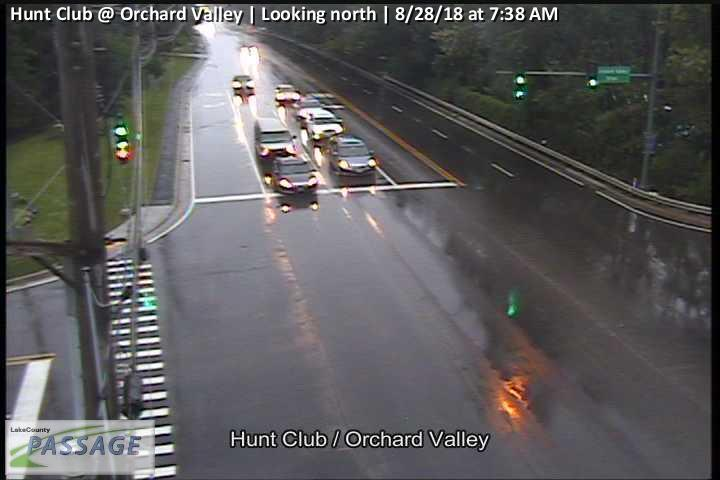SUV: (255, 117, 297, 158), (306, 112, 344, 141)
Sedan: (329, 136, 376, 178), (273, 157, 318, 195), (275, 83, 300, 103), (233, 75, 254, 95)
